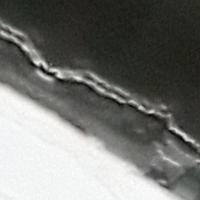crack: (1, 15, 199, 177)
